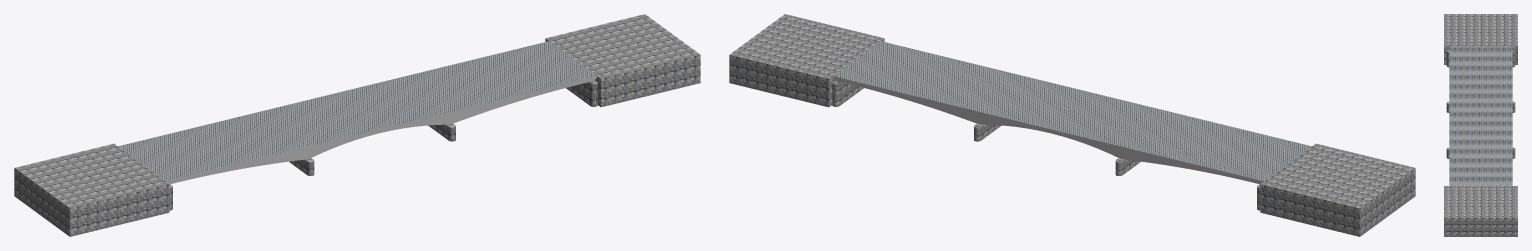
File: KoPf_Rheinbruecke_lod3.dae
3 views of the same model, side by side, from view 1: azimuth 30°, elevation 25°; view 2: azimuth 150°, elevation 25°; view 3: azimuth 270°, elevation 25° (orthographic). The views are drawn at different scales.
Parts seen in each view (by area): view 1: SketchUp (×5); view 2: SketchUp (×5); view 3: SketchUp (×8).
Part boxes in pixels (box(x1,y1,x2,y2)): SketchUp (×5): box(14, 14, 700, 236); SketchUp (×5): box(729, 14, 1415, 236); SketchUp (×8): box(1444, 14, 1517, 236).
Size of the model in its own units: 7480 by 1142 by 323.
